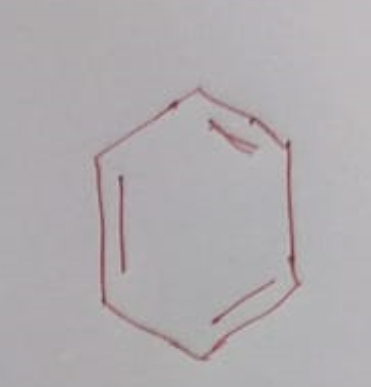shape_mask: (75, 70, 320, 375)
